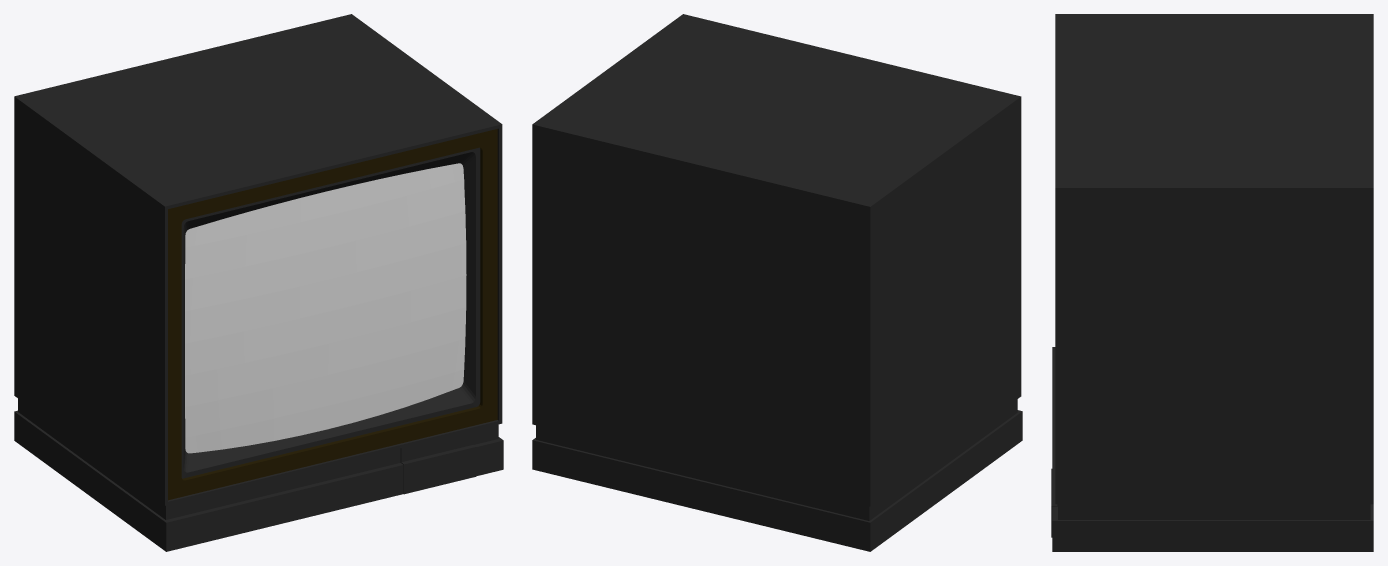
3 views of the same model, side by side, from view 1: azimuth 30°, elevation 25°; view 2: azimuth 150°, elevation 25°; view 3: azimuth 270°, elevation 25° (orthographic). The views are drawn at different scales.
Parts seen in each view (by area): view 1: TV2_Dock.001, TV2_Screen.001; view 2: TV2_Dock.001; view 3: TV2_Dock.001.
Part boxes in pixels (x1,y1,x2,y2): TV2_Dock.001: [14, 14, 503, 551]; TV2_Screen.001: [185, 163, 466, 453]; TV2_Dock.001: [532, 14, 1022, 551]; TV2_Dock.001: [1051, 14, 1373, 551].
Size of the model in its own units: 45.89 by 44.75 by 35.9.
